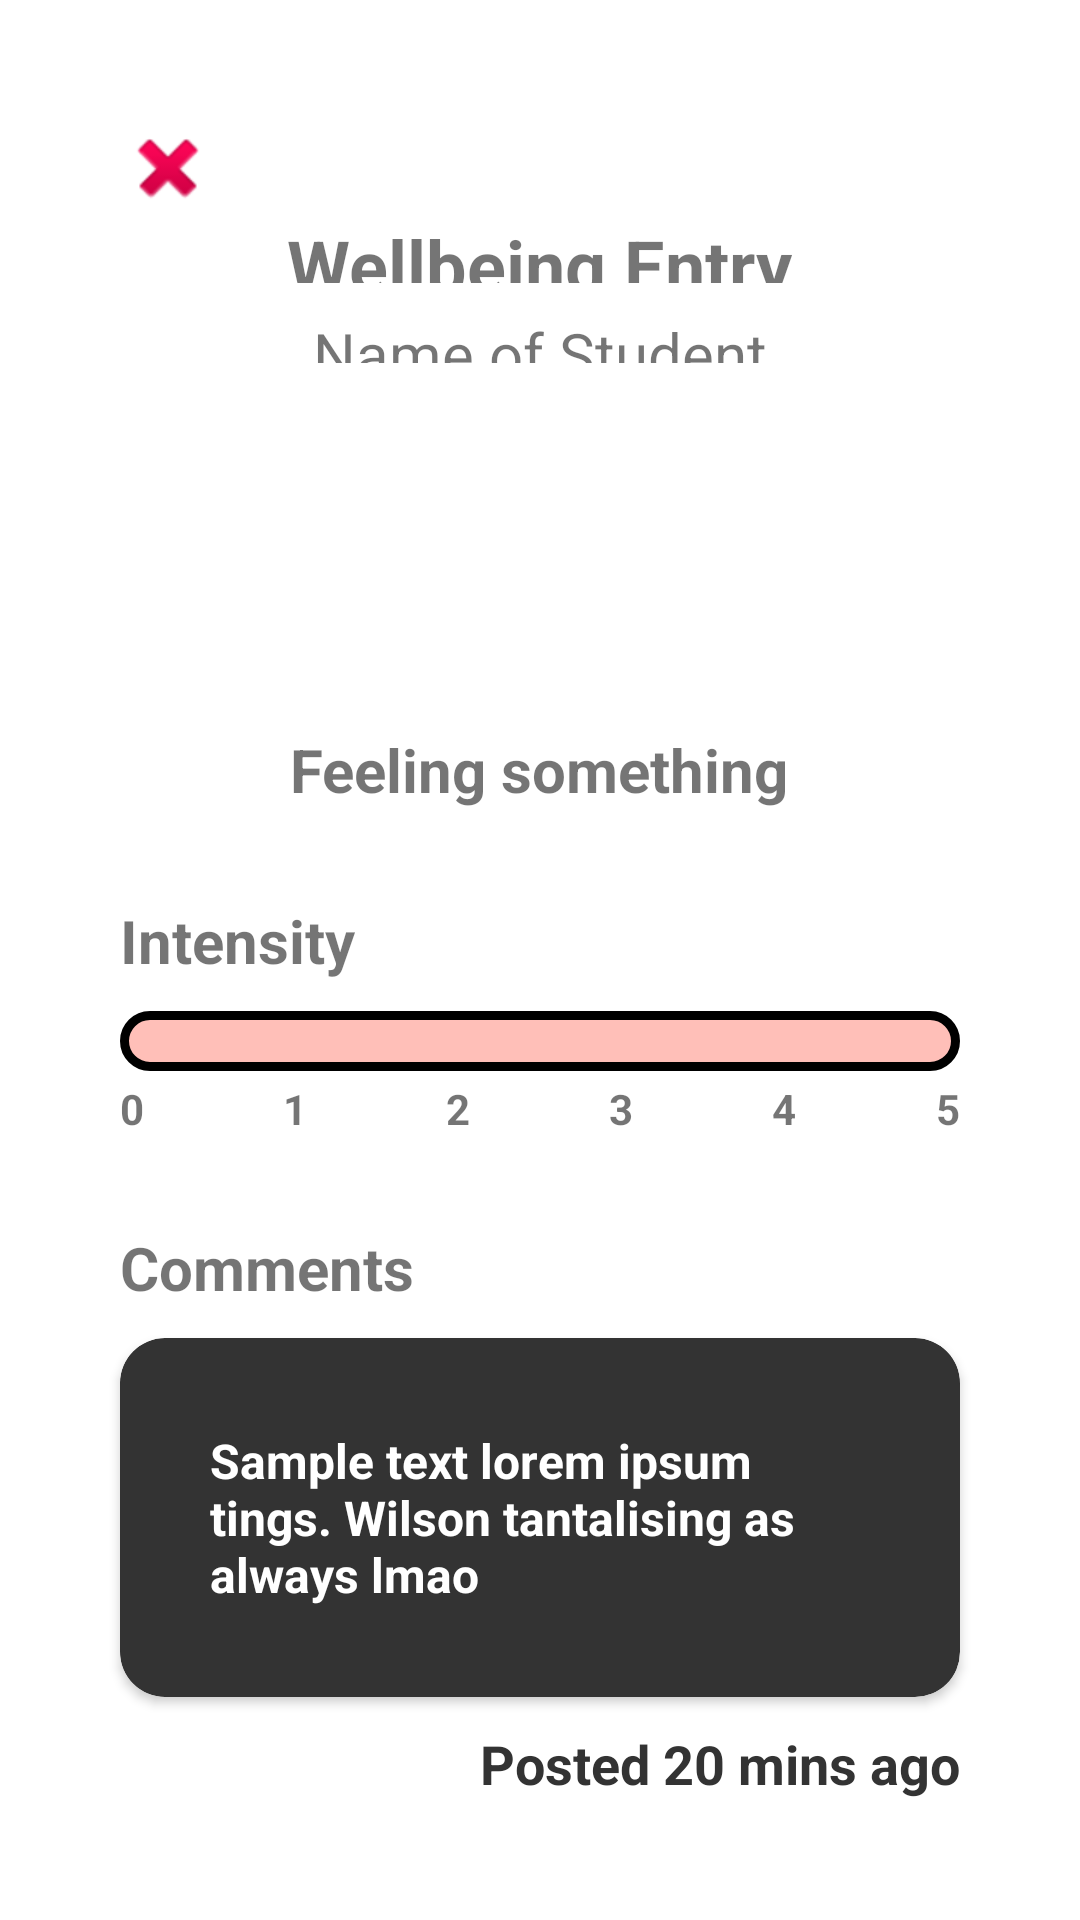

Point at icon controls on the screen. Image size 1080 x 1920, points as point (x, y).
delete: point (168, 168)
